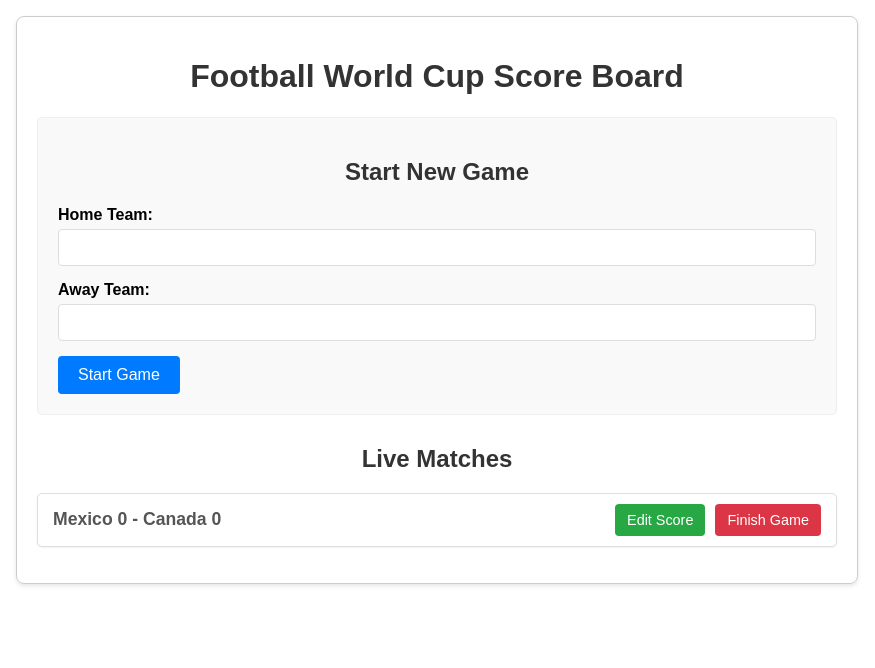
App Component › should allow updating a game score and display the new score
Type "Germany" into the field labelled "Home Team:" at [437, 247], box [58, 229, 816, 266]
Type "France" into the field labelled "Away Team:" at [437, 322], box [58, 304, 816, 341]
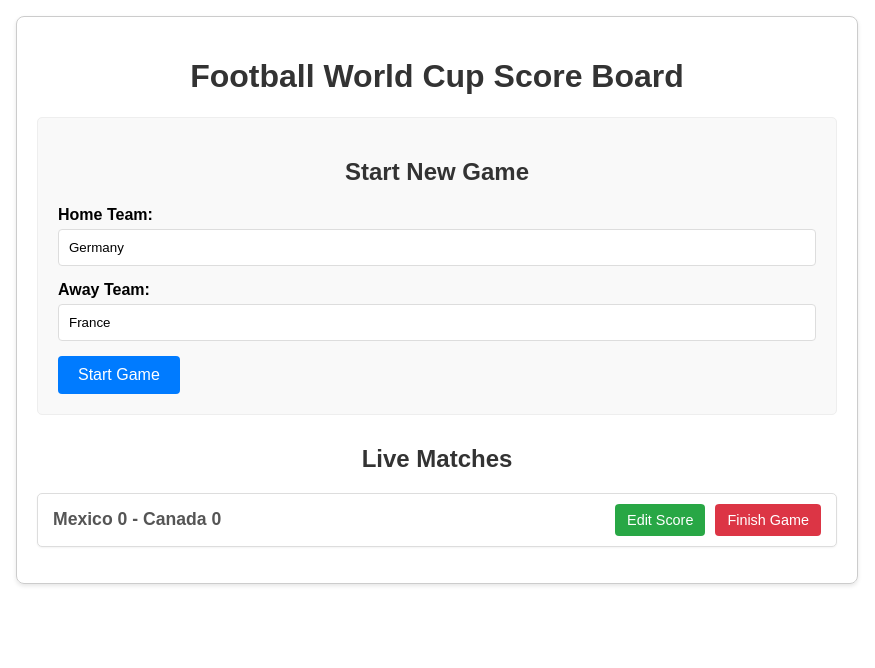
Click the button "Start Game" at [119, 375], box [58, 356, 180, 394]
Wait 10 ms
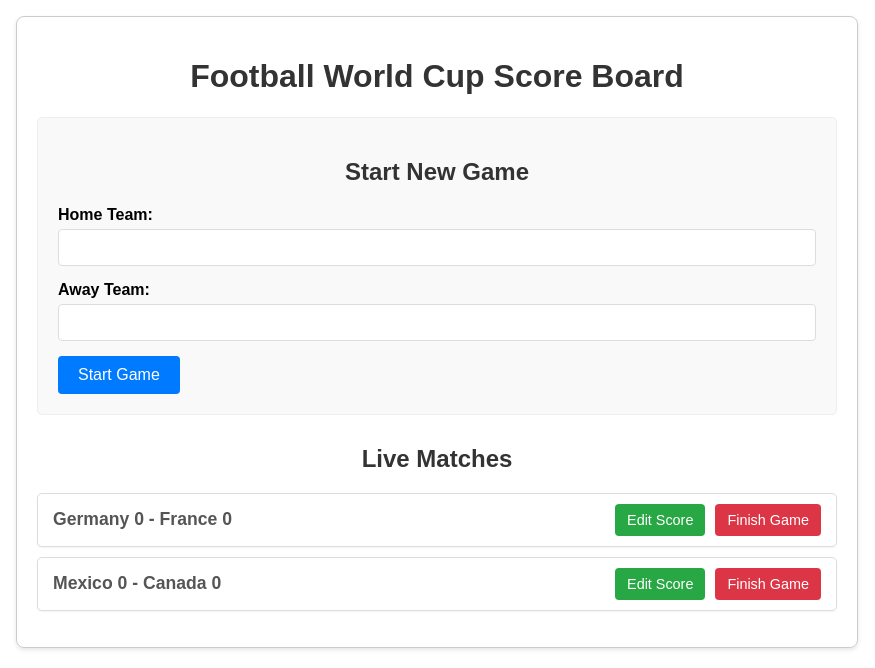
Check: the list item "Germany 0 - France 0 Edit Score Finish Game" is shown, box [37, 493, 837, 547]
Click "Edit Score"
Click the button "Edit Score" in the row of "Germany" at [660, 520], box [615, 504, 705, 536]
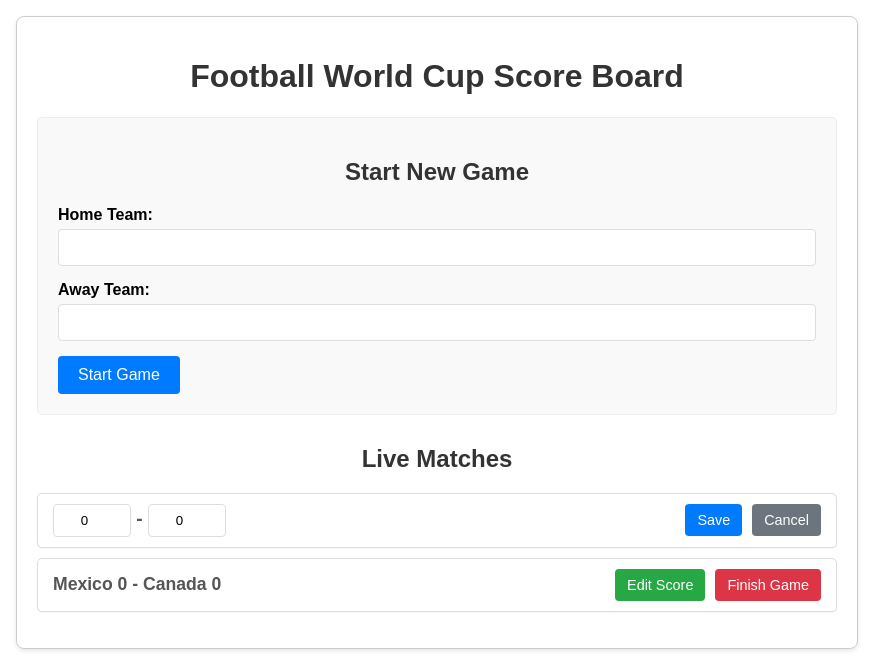
Check: the 1st number field showing "0" is shown
Check: the 2nd number field showing "0" is shown, box [148, 504, 226, 537]
Type new scores
Replace the text in the 1st number field showing "0" with "2" at [92, 520], box [53, 504, 131, 537]
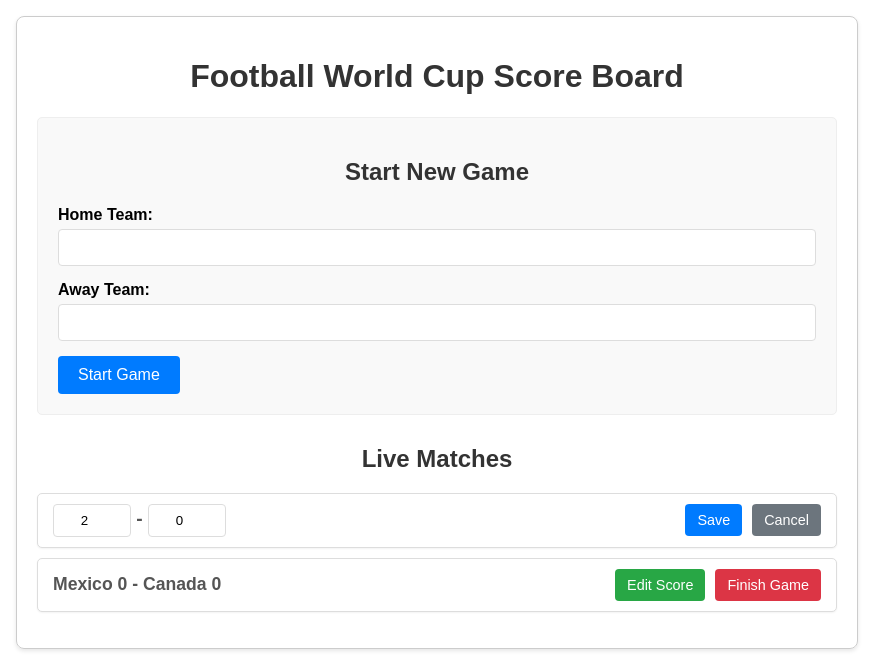
Replace the text in the 2nd number field showing "0" with "1" at [187, 520], box [148, 504, 226, 537]
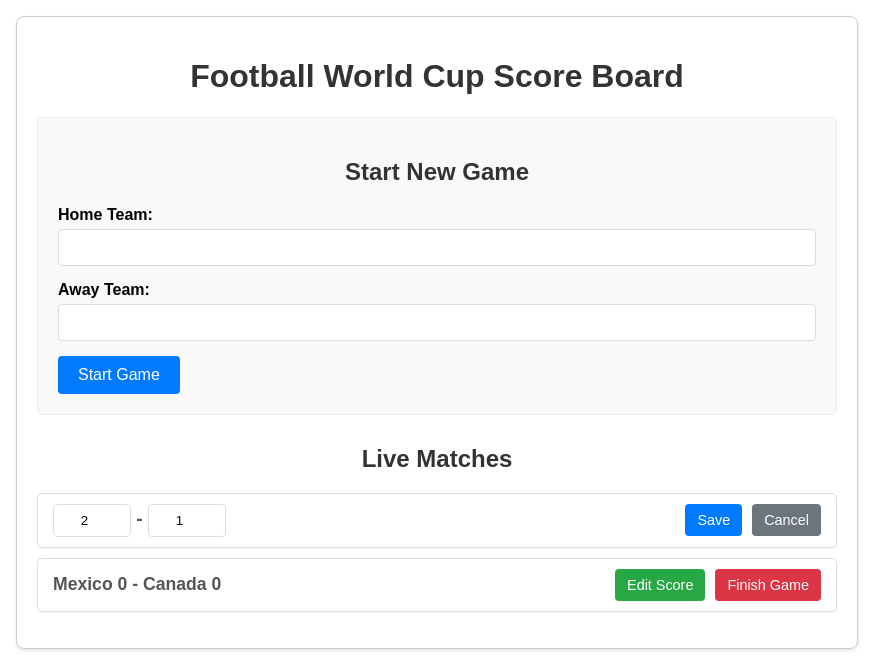
Click "Save"
Click the button "Save" at [714, 520], box [685, 504, 742, 536]
Wait 10 ms
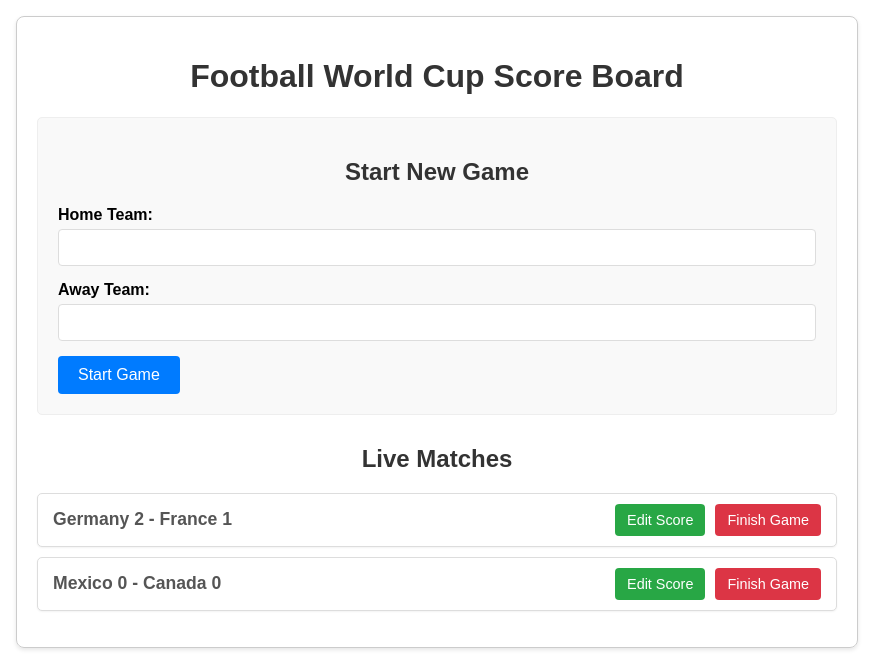
Check: the text "Germany 2 - France 1" is shown, box [53, 509, 253, 530]
Check: the button "Save" is gone
